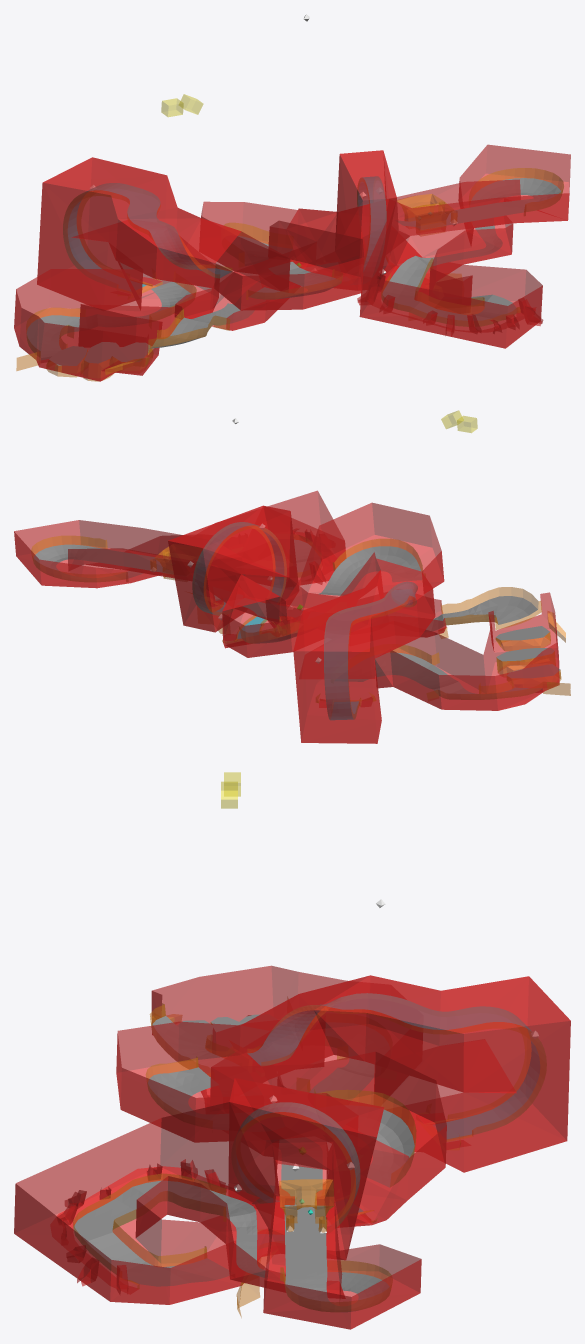
Rendered from Thunderstruck(Complete).obj.
3 views of the same model, one above another, from view 1: azimuth 30°, elevation 25°; view 2: azimuth 150°, elevation 25°; view 3: azimuth 270°, elevation 25° (orthographic). The views are drawn at different scales.
Visible parts, largest first — view 1: COL_reset, COL_alienmetaltrack, COL_wall, COL_maglev, COL_groundreset01; view 2: COL_reset, COL_alienmetaltrack, COL_wall, COL_maglev, COL_groundreset01; view 3: COL_reset, COL_alienmetaltrack, COL_wall, COL_maglev, COL_groundreset01.
Part boxes in pixels (left/top/right/bottom): COL_reset: left=14, top=144, right=570, bottom=381; COL_alienmetaltrack: left=27, top=178, right=561, bottom=365; COL_wall: left=16, top=168, right=563, bottom=381; COL_maglev: left=67, top=176, right=386, bottom=287; COL_groundreset01: left=142, top=260, right=543, bottom=336; COL_reset: left=14, top=490, right=559, bottom=743; COL_alienmetaltrack: left=33, top=540, right=560, bottom=699; COL_wall: left=31, top=525, right=570, bottom=718; COL_maglev: left=192, top=522, right=417, bottom=719; COL_groundreset01: left=224, top=528, right=446, bottom=707; COL_reset: left=14, top=965, right=570, bottom=1329; COL_alienmetaltrack: left=73, top=1014, right=414, bottom=1311; COL_wall: left=73, top=1003, right=546, bottom=1317; COL_maglev: left=240, top=993, right=540, bottom=1211; COL_groundreset01: left=50, top=1140, right=470, bottom=1294.
Size of the model in its own units: 497 by 240 by 329.
